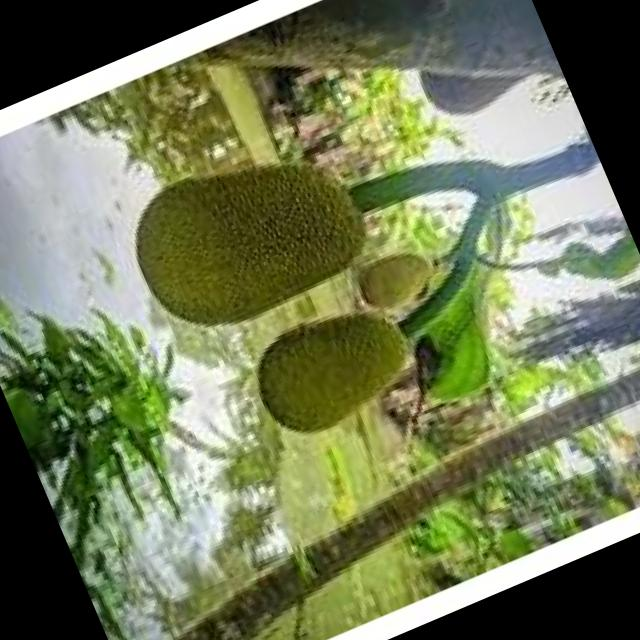Fruit: (94, 103, 398, 366), (211, 265, 448, 470)
